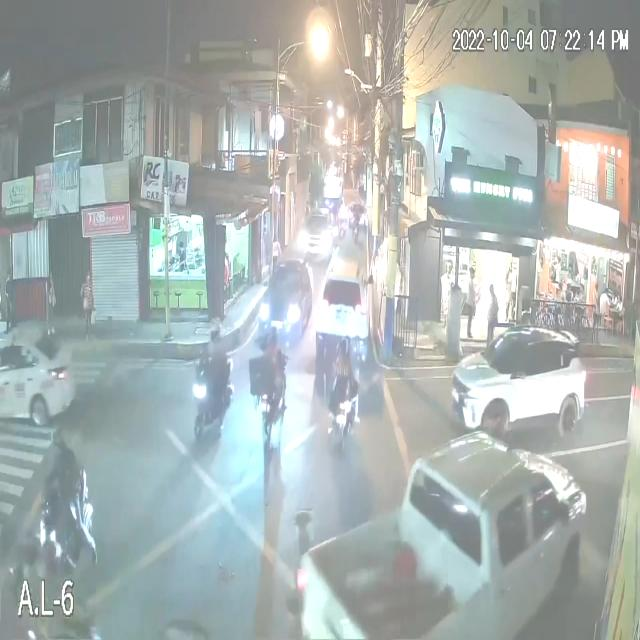Full-Faced: (50, 427, 70, 456), (206, 318, 224, 346), (264, 325, 278, 355)
